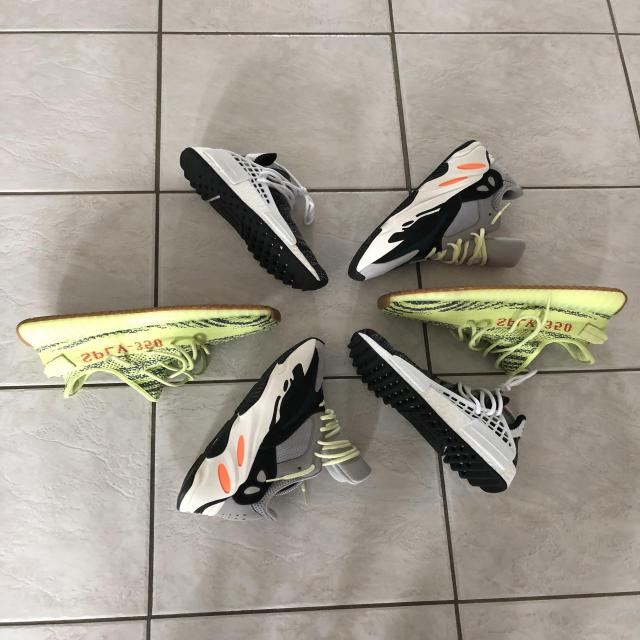shoe: (165, 327, 386, 544), (337, 321, 555, 508), (331, 127, 544, 289), (4, 290, 284, 406), (360, 276, 640, 384), (172, 130, 341, 292)
